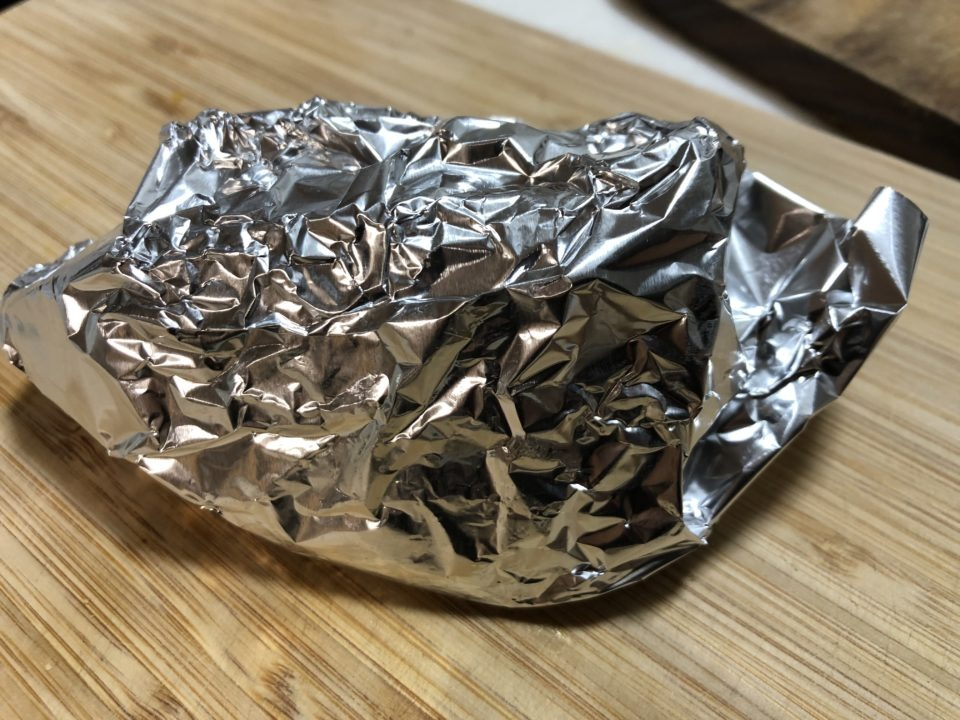metal: (4, 96, 928, 609)
